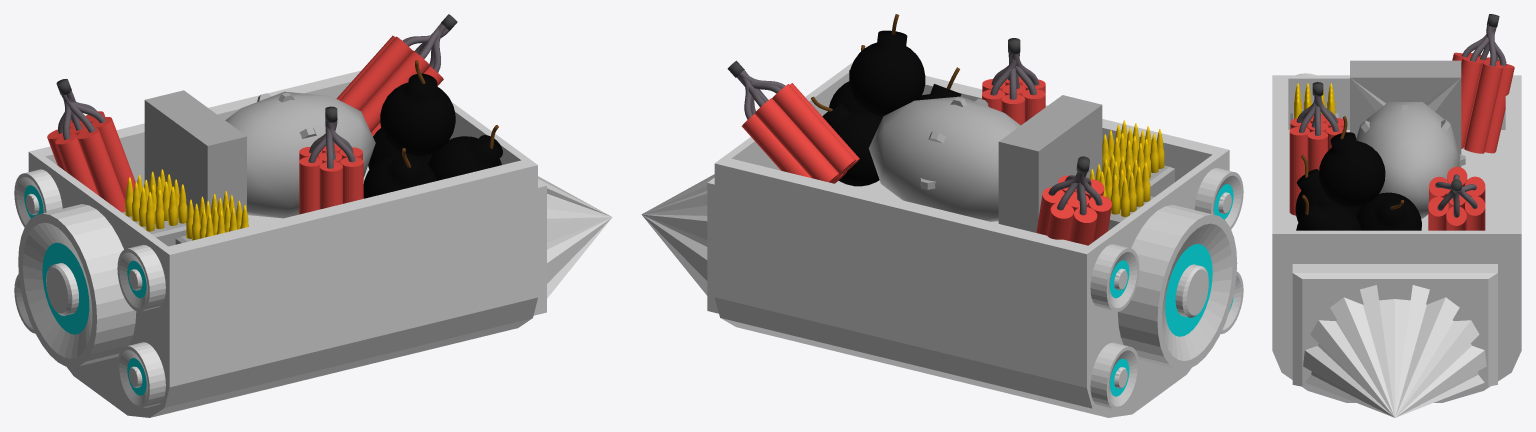
Rendered from PayloadWIP.fbx.
3 views of the same model, side by side, from view 1: azimuth 30°, elevation 25°; view 2: azimuth 150°, elevation 25°; view 3: azimuth 270°, elevation 25° (orthographic). The views are drawn at different scales.
Parts seen in each view (by area): view 1: Cube, Icosphere, Cylinder.001, BezierCurve.009, Cylinder.002, Cylinder, Cube.001, BezierCurve.004, BezierCurve.005, Cube.002, BezierCurve.001, BezierCurve.002 (+2 smaller); view 2: Cube, Icosphere, Cylinder.002, BezierCurve.009, Cylinder.001, Cube.002, BezierCurve.008, Cube.001, Cylinder, BezierCurve.001, BezierCurve.002, BezierCurve.003; view 3: Cube, Icosphere, Cylinder.001, BezierCurve.009, Cylinder.002, Cylinder, BezierCurve.008, BezierCurve.004, BezierCurve.005, BezierCurve.001, BezierCurve.002, BezierCurve.003 (+1 smaller).
Boxes of the visible parts, bbox=[...] form: Cube: bbox=[14, 70, 612, 417]; Icosphere: bbox=[144, 90, 375, 218]; Cylinder.001: bbox=[47, 79, 135, 212]; BezierCurve.009: bbox=[380, 60, 455, 156]; Cylinder.002: bbox=[336, 14, 457, 136]; Cylinder: bbox=[299, 106, 363, 214]; Cube.001: bbox=[122, 169, 187, 246]; BezierCurve.004: bbox=[428, 125, 502, 180]; BezierCurve.005: bbox=[363, 148, 436, 198]; Cube.002: bbox=[175, 191, 248, 244]; BezierCurve.001: bbox=[308, 119, 355, 168]; BezierCurve.002: bbox=[58, 90, 105, 139]; Cube: bbox=[641, 62, 1243, 417]; Icosphere: bbox=[868, 95, 1102, 232]; Cylinder.002: bbox=[727, 60, 859, 183]; BezierCurve.009: bbox=[849, 14, 925, 116]; Cylinder.001: bbox=[1036, 156, 1111, 245]; Cube.002: bbox=[1102, 120, 1174, 196]; BezierCurve.008: bbox=[811, 96, 882, 186]; Cube.001: bbox=[1089, 154, 1154, 230]; Cylinder: bbox=[982, 38, 1045, 124]; BezierCurve.001: bbox=[990, 53, 1039, 99]; BezierCurve.002: bbox=[1048, 172, 1102, 215]; BezierCurve.003: bbox=[736, 70, 785, 119]; Cube: bbox=[1272, 73, 1521, 417]; Icosphere: bbox=[1350, 60, 1465, 218]; Cylinder.001: bbox=[1452, 14, 1514, 153]; BezierCurve.009: bbox=[1319, 116, 1385, 207]; Cylinder.002: bbox=[1428, 166, 1485, 230]; Cylinder: bbox=[1289, 82, 1346, 215]; BezierCurve.008: bbox=[1356, 192, 1421, 230]; BezierCurve.004: bbox=[1296, 194, 1361, 230]; BezierCurve.005: bbox=[1295, 154, 1361, 222]; BezierCurve.001: bbox=[1296, 95, 1338, 135]; BezierCurve.002: bbox=[1461, 24, 1506, 66]; BezierCurve.003: bbox=[1435, 174, 1477, 217].
Size of the model in its own units: 473 by 233 by 209.
